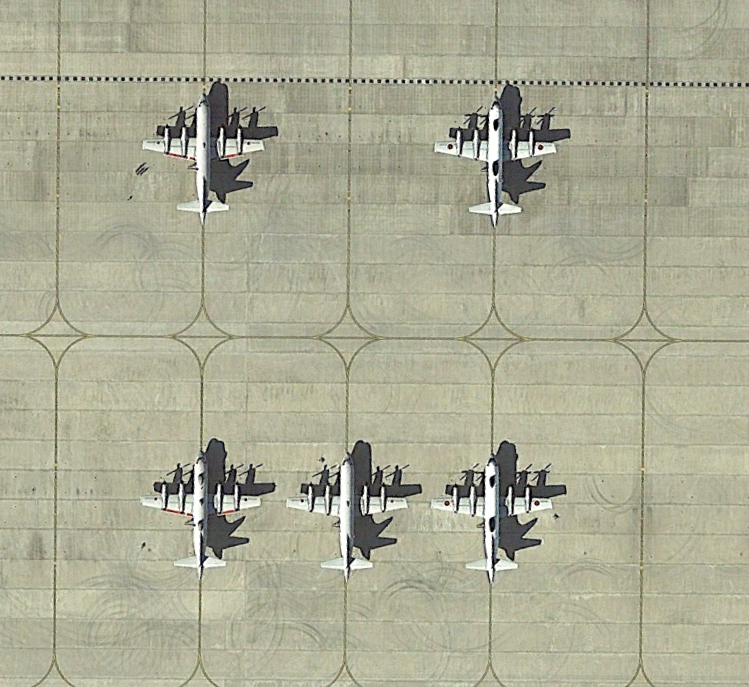A9: (424, 86, 566, 235), (130, 437, 272, 586), (278, 444, 420, 593), (420, 445, 562, 594), (133, 83, 273, 233)
